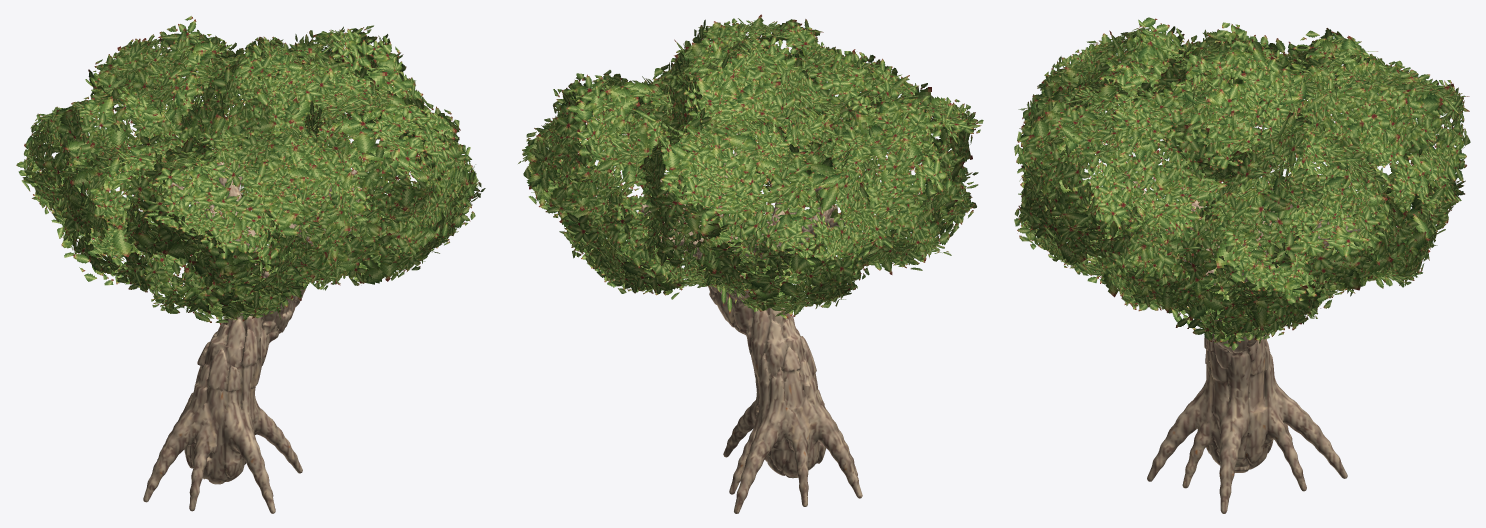
File: macieira_LOD_A_-40pct.glb
3 renders of one model, left to right at view 1: azimuth 30°, elevation 25°; view 2: azimuth 150°, elevation 25°; view 3: azimuth 270°, elevation 25°, orthographic. The views are drawn at different scales.
Parts seen in each view (by area): view 1: macieira_inclinada; view 2: macieira_inclinada; view 3: macieira_inclinada.
Part boxes in pixels (bbox=[...]): macieira_inclinada: bbox=[16, 16, 485, 513]; macieira_inclinada: bbox=[518, 14, 983, 513]; macieira_inclinada: bbox=[1014, 17, 1470, 513].
Size of the model in its own units: 5.96 by 6.23 by 5.6.
2 materials, 1 textured.
